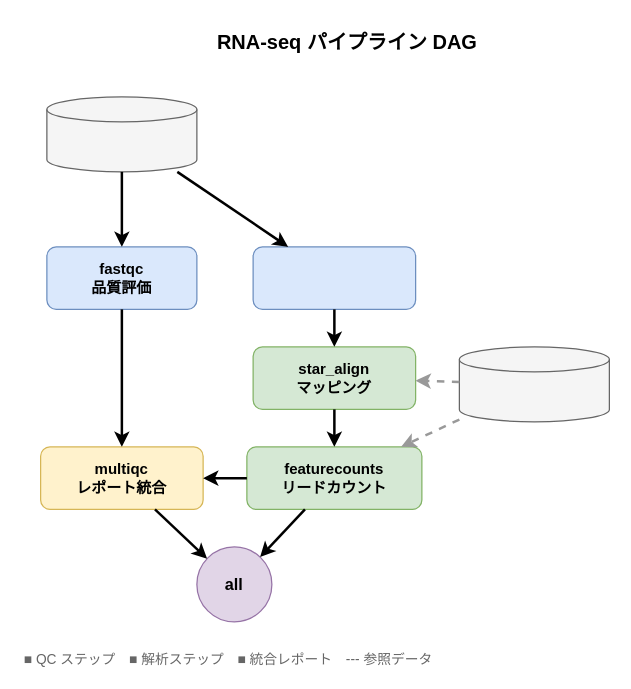
Some shapes in this 631 by 689 pixel diagram are drawn without their labels. The shapes that lost their labels are listed below. From the top down, each one's centre as x and y in pixels, then its label:
At point 121,134: "FASTQ （生データ）".
At point 334,277: "trimmomatic アダプタ除去".
At point 533,384: "ゲノム参照 （FASTA + GTF）".
